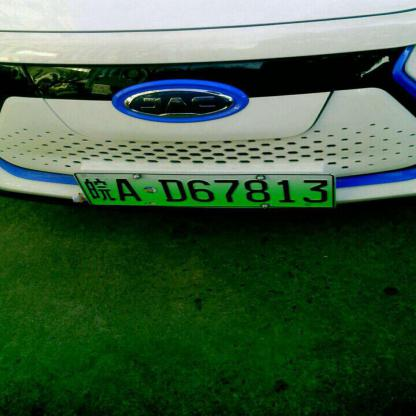lp: (73, 174, 337, 206)
